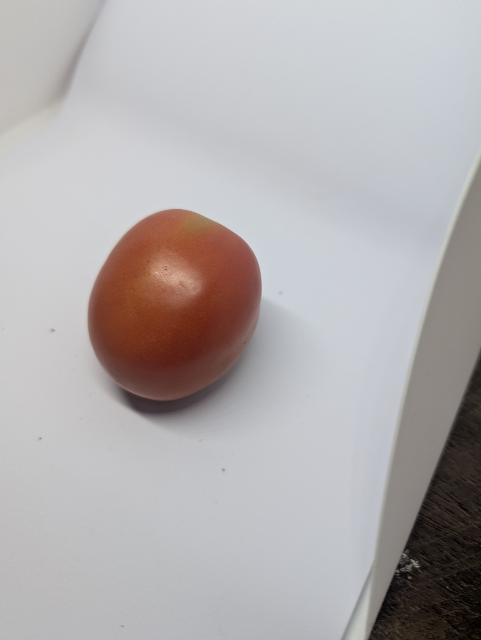red: (84, 206, 270, 405)
